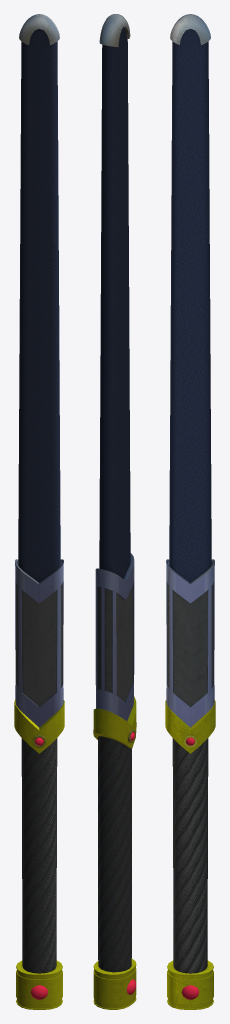
Rendered from SwordChinese.fbx.
The picture shows the model from 3 angles, left to right: view 1: azimuth 90°, elevation 25°; view 2: azimuth 150°, elevation 25°; view 3: azimuth 270°, elevation 25°; orthographic projection.
Visible parts, largest first — view 1: Cube.002, Cube.005; view 2: Cube.002, Cube.005; view 3: Cube.002, Cube.005.
Boxes of the visible parts, x1,y1,x2,y2 form: Cube.002: (15, 14, 63, 727); Cube.005: (14, 700, 64, 1009); Cube.002: (95, 14, 134, 721); Cube.005: (93, 696, 136, 1009); Cube.002: (166, 14, 214, 727); Cube.005: (165, 700, 215, 1009).
Size of the model in its own units: 37.69 by 894 by 41.5.
2 materials, 1 textured.
